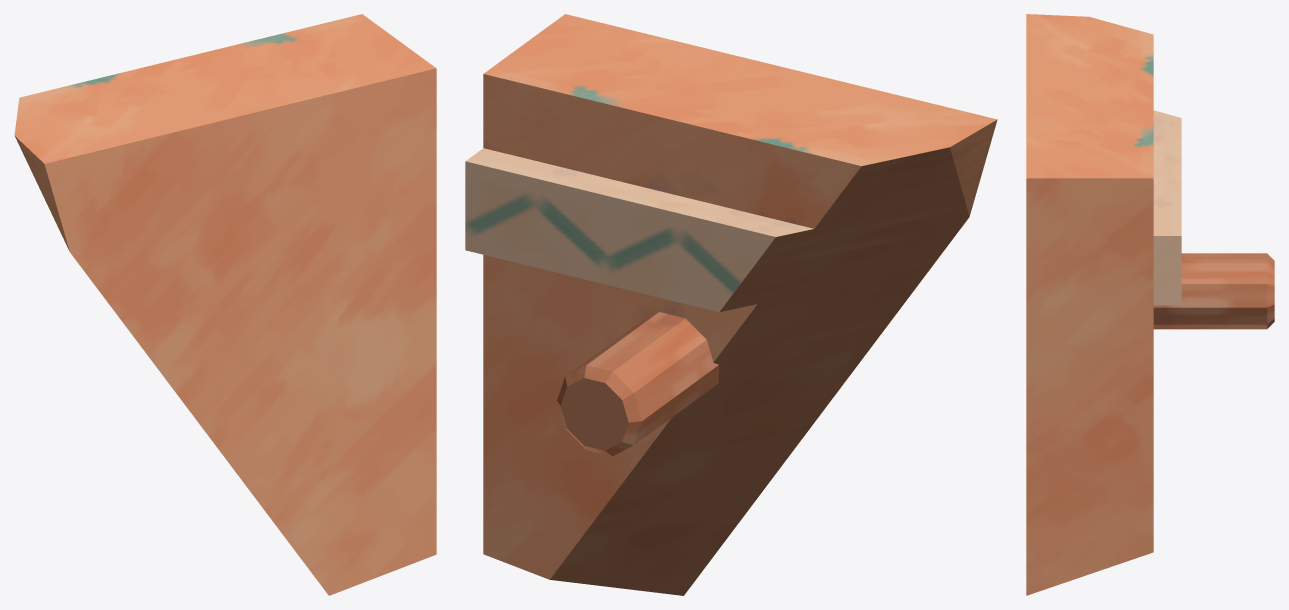
File: wall2_plain_s10.fbx
3 views of the same model, side by side, from view 1: azimuth 30°, elevation 25°; view 2: azimuth 150°, elevation 25°; view 3: azimuth 270°, elevation 25° (orthographic). The views are drawn at different scales.
Parts seen in each view (by area): view 1: wall2_plain_s10; view 2: wall2_plain_s10; view 3: wall2_plain_s10.
Part boxes in pixels (x1=…): wall2_plain_s10: x1=14, y1=14, x2=436, y2=595; wall2_plain_s10: x1=465, y1=14, x2=997, y2=595; wall2_plain_s10: x1=1026, y1=14, x2=1274, y2=595.
Bounding box in the file's own units: 3.05 × 3.73 × 1.95.
